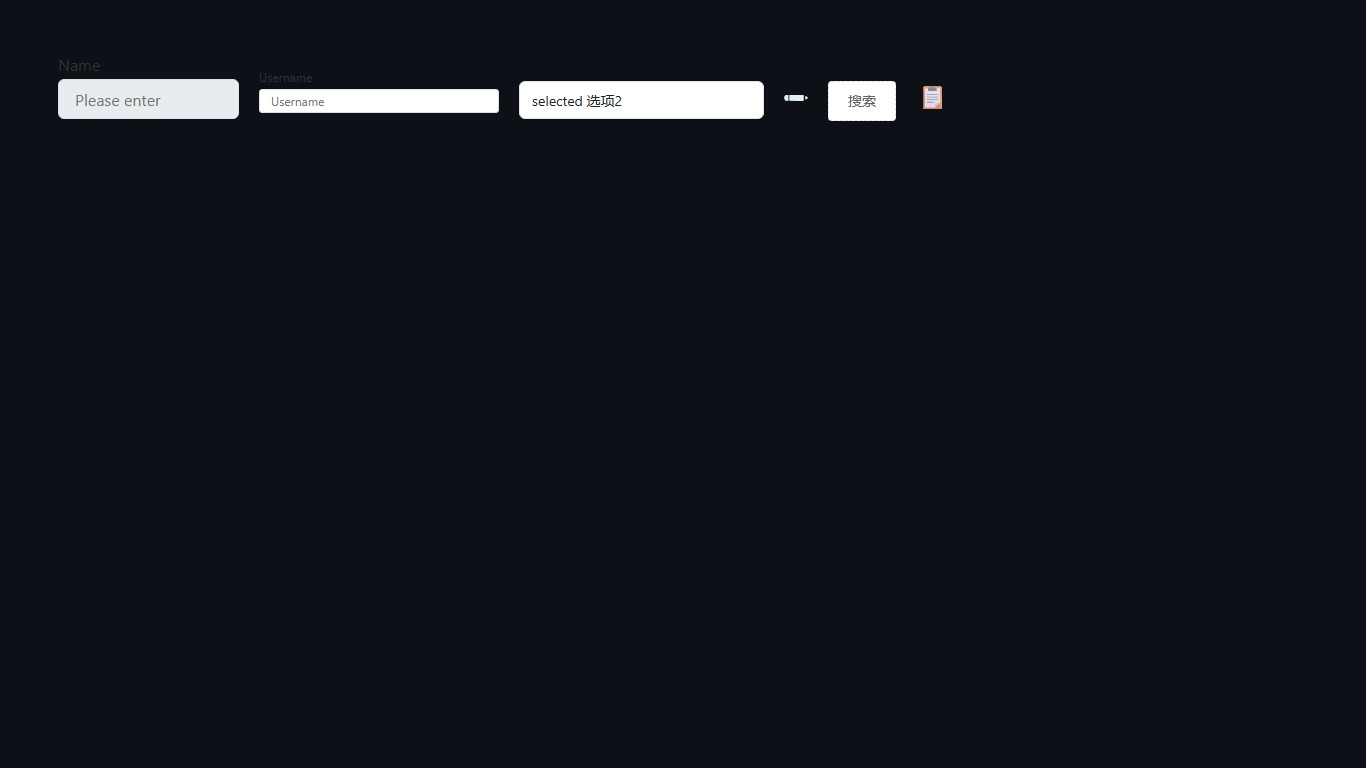button: (828, 80, 896, 120)
icon: (916, 84, 949, 108), (784, 84, 808, 108)
input: (58, 79, 239, 119), (259, 88, 499, 112)
select: (519, 81, 764, 119)
